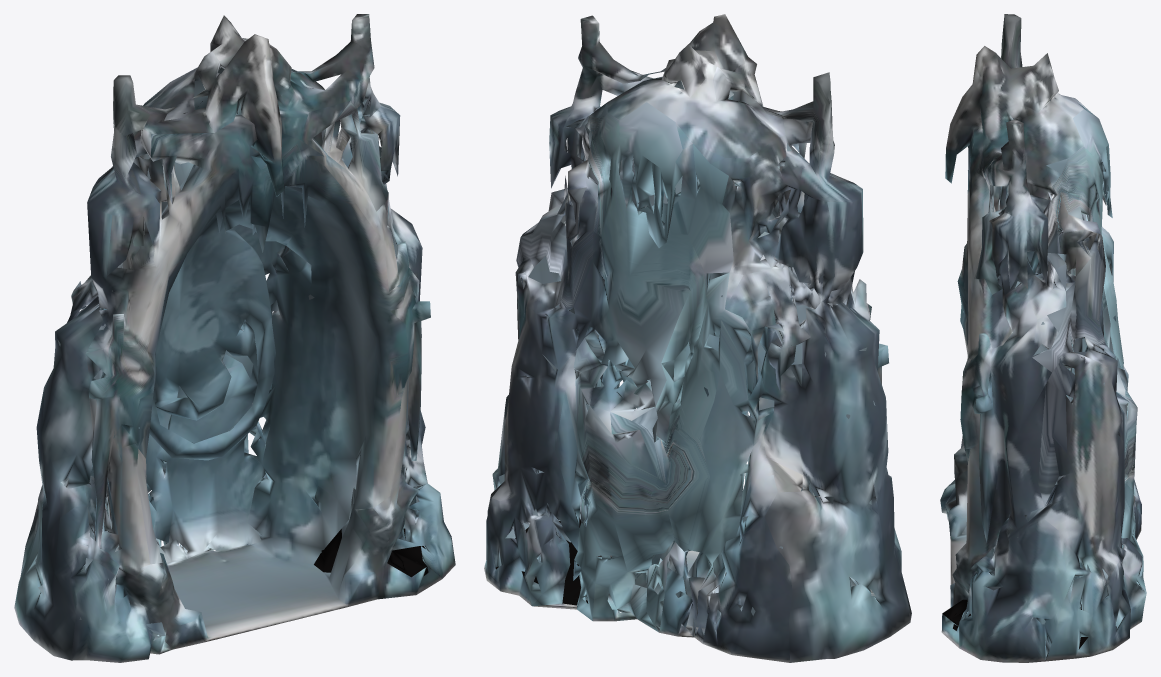
The model's file is SM_Tripo_FrostSeaPortalShrine.glb.
3 renders of one model, left to right at view 1: azimuth 30°, elevation 25°; view 2: azimuth 150°, elevation 25°; view 3: azimuth 270°, elevation 25°, orthographic. The views are drawn at different scales.
Visible parts, largest first — view 1: SM_Tripo_FrostSeaPortalShrine_LOD0; view 2: SM_Tripo_FrostSeaPortalShrine_LOD0; view 3: SM_Tripo_FrostSeaPortalShrine_LOD0.
Part boxes in pixels (x1=…): SM_Tripo_FrostSeaPortalShrine_LOD0: x1=14, y1=14, x2=455, y2=662; SM_Tripo_FrostSeaPortalShrine_LOD0: x1=484, y1=14, x2=911, y2=662; SM_Tripo_FrostSeaPortalShrine_LOD0: x1=940, y1=14, x2=1146, y2=662.
Size of the model in its own units: 7.62 by 10.44 by 3.71.
1 material, 1 textured.
